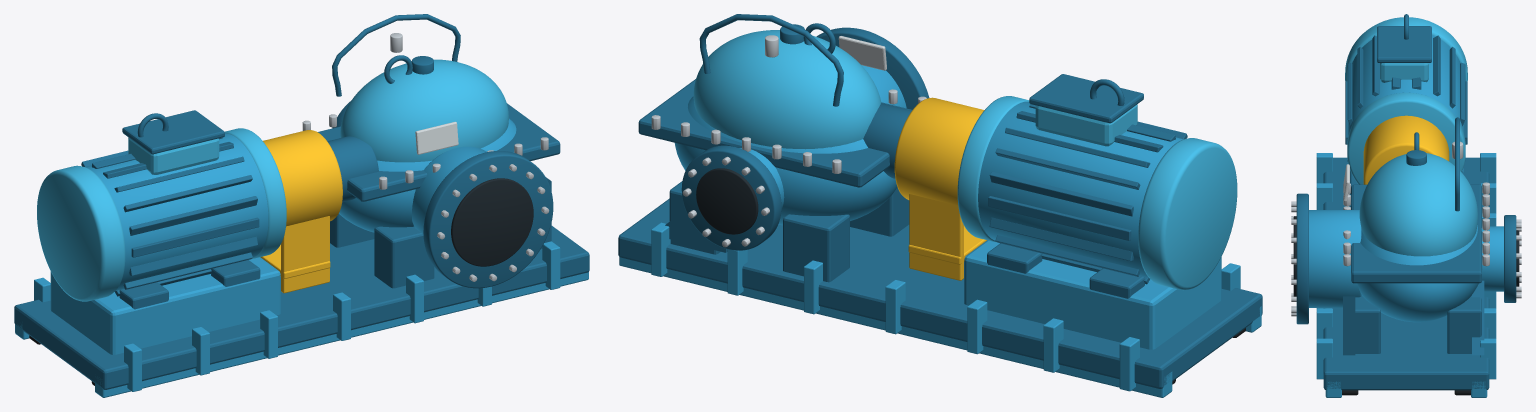
Rendered from pump-horizontal-split-case-generic-v1.glb.
3 views of the same model, side by side, from view 1: azimuth 30°, elevation 25°; view 2: azimuth 150°, elevation 25°; view 3: azimuth 270°, elevation 25° (orthographic). The views are drawn at different scales.
Parts seen in each view (by area): view 1: FRAME_BASE_DECK, PUMP_CASING_UPPER, MOTOR_STATOR, MOTOR_PEDESTAL, MOTOR_REAR_COWL, CONN_SUCTION_FLANGE, CONN_SUCTION_BORE, COUPLING_GUARD, PUMP_SPLIT_FLANGE_PLATE, FRAME_LONG_RAIL_F, PUMP_CASING_LOWER, PUMP_FOOT_+0.86_-0.42 (+24 smaller); view 2: FRAME_BASE_DECK, PUMP_CASING_UPPER, MOTOR_STATOR, MOTOR_PEDESTAL, MOTOR_REAR_COWL, COUPLING_GUARD, PUMP_SPLIT_FLANGE_PLATE, PUMP_CASING_LOWER, CONN_DISCHARGE_FLANGE, FRAME_LONG_RAIL_R, PUMP_FOOT_+0.86_+0.57, COUPLING_GUARD_LEG_R (+29 smaller); view 3: FRAME_BASE_DECK, PUMP_CASING_UPPER, PUMP_CASING_LOWER, CONN_SUCTION_NECK, PUMP_SPLIT_FLANGE_PLATE, MOTOR_FRONT_END_BELL, COUPLING_GUARD, MOTOR_STATOR, MOTOR_TERMINAL_BOX_LID, CONN_SUCTION_FLANGE, PUMP_FOOT_+1.90_+0.57, PUMP_FOOT_+1.90_-0.42 (+25 smaller).
Boxes of the visible parts, <box> form: FRAME_BASE_DECK: <box>14,226,589,389</box>; PUMP_CASING_UPPER: <box>340,59,508,162</box>; MOTOR_STATOR: <box>85,133,268,290</box>; MOTOR_PEDESTAL: <box>50,257,280,354</box>; MOTOR_REAR_COWL: <box>37,165,125,301</box>; CONN_SUCTION_FLANGE: <box>423,150,553,288</box>; CONN_SUCTION_BORE: <box>451,178,533,266</box>; COUPLING_GUARD: <box>263,130,342,226</box>; PUMP_SPLIT_FLANGE_PLATE: <box>318,103,560,201</box>; FRAME_LONG_RAIL_F: <box>95,272,588,397</box>; PUMP_CASING_LOWER: <box>339,118,516,232</box>; PUMP_FOOT_+0.86_-0.42: <box>374,226,434,288</box>; FRAME_BASE_DECK: <box>618,198,1262,388</box>; PUMP_CASING_UPPER: <box>693,30,881,149</box>; MOTOR_STATOR: <box>978,101,1183,278</box>; MOTOR_PEDESTAL: <box>964,240,1221,349</box>; MOTOR_REAR_COWL: <box>1138,138,1237,290</box>; COUPLING_GUARD: <box>894,97,984,205</box>; PUMP_SPLIT_FLANGE_PLATE: <box>638,79,912,187</box>; PUMP_CASING_LOWER: <box>674,96,897,225</box>; CONN_DISCHARGE_FLANGE: <box>681,145,781,250</box>; FRAME_LONG_RAIL_R: <box>619,257,1172,397</box>; PUMP_FOOT_+0.86_+0.57: <box>783,214,849,282</box>; COUPLING_GUARD_LEG_R: <box>909,194,963,280</box>; FRAME_BASE_DECK: <box>1323,157,1489,390</box>; PUMP_CASING_UPPER: <box>1359,153,1477,256</box>; PUMP_CASING_LOWER: <box>1357,225,1482,322</box>; CONN_SUCTION_NECK: <box>1309,210,1361,307</box>; PUMP_SPLIT_FLANGE_PLATE: <box>1351,184,1481,283</box>; MOTOR_FRONT_END_BELL: <box>1347,92,1465,184</box>; COUPLING_GUARD: <box>1363,115,1449,184</box>; MOTOR_STATOR: <box>1348,34,1464,134</box>; MOTOR_TERMINAL_BOX_LID: <box>1377,26,1431,62</box>; CONN_SUCTION_FLANGE: <box>1296,193,1308,324</box>; PUMP_FOOT_+1.90_+0.57: <box>1447,295,1481,353</box>; PUMP_FOOT_+1.90_-0.42: <box>1355,296,1380,353</box>.
Size of the model in its own units: 5 by 2.37 by 2.26.
